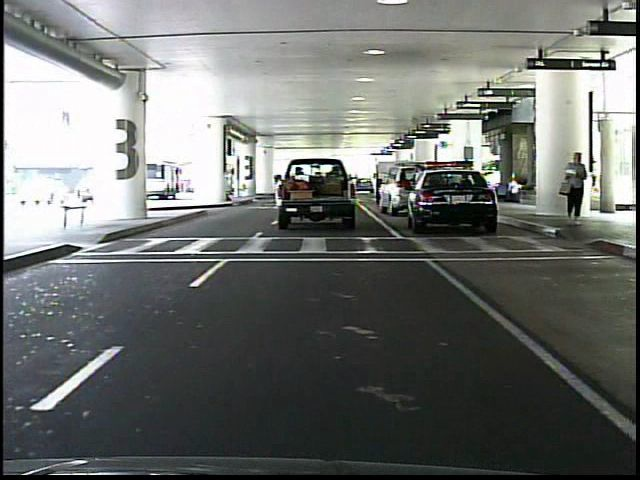person: (560, 147, 593, 231), (407, 160, 428, 216)
